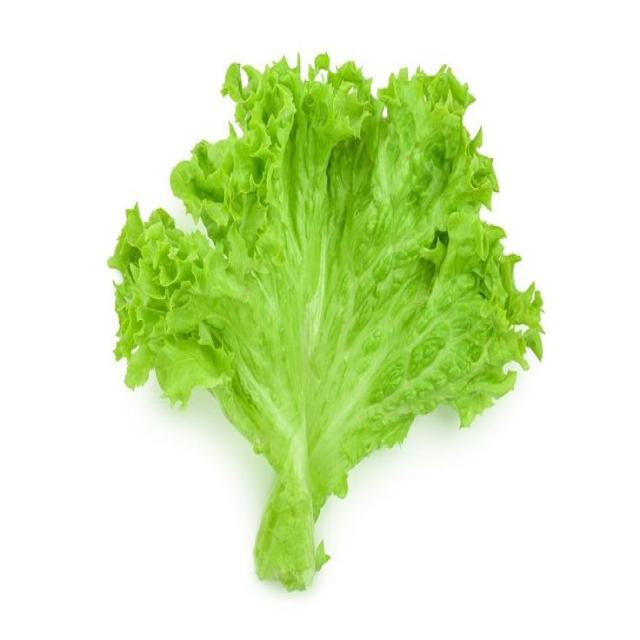lettuce: (110, 57, 541, 589)
